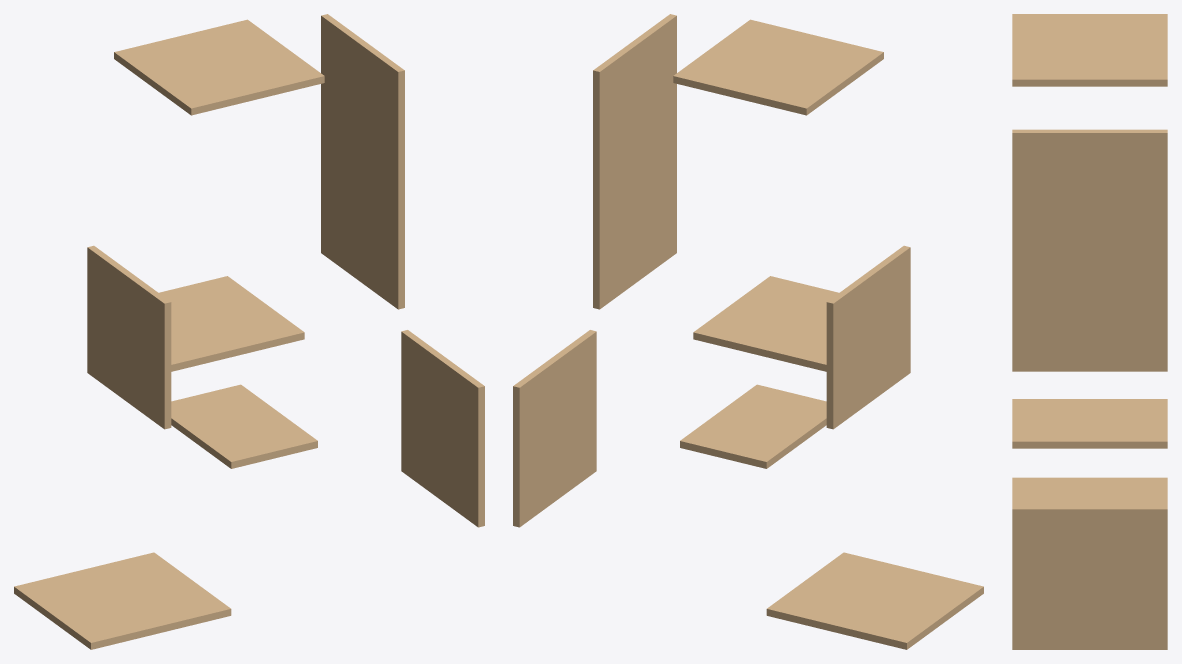
File: Oregani_Soft_Walls.obj
3 views of the same model, side by side, from view 1: azimuth 30°, elevation 25°; view 2: azimuth 150°, elevation 25°; view 3: azimuth 270°, elevation 25° (orthographic).
Visible parts, largest first — view 1: obj_5, obj_0, obj_1, obj_4, obj_3, obj_2, obj_6; view 2: obj_5, obj_0, obj_1, obj_4, obj_3, obj_2, obj_6; view 3: obj_5, obj_0, obj_4, obj_6, obj_1.
Part boxes in pixels (x1,y1,x2,y2): obj_5: (321, 14, 404, 309); obj_0: (401, 330, 484, 527); obj_1: (14, 552, 231, 649); obj_4: (114, 19, 324, 115); obj_3: (87, 245, 171, 429); obj_2: (159, 276, 304, 371); obj_6: (171, 384, 317, 468); obj_5: (593, 14, 676, 309); obj_0: (513, 330, 596, 527); obj_1: (766, 552, 983, 649); obj_4: (673, 19, 883, 115); obj_3: (826, 245, 910, 429); obj_2: (693, 276, 838, 371); obj_6: (680, 384, 826, 468); obj_5: (1012, 129, 1167, 371); obj_0: (1012, 506, 1167, 649); obj_4: (1012, 14, 1167, 86); obj_6: (1012, 399, 1167, 448); obj_1: (1012, 477, 1167, 506).
Bounding box in the file's own units: 59 × 74 × 20.
